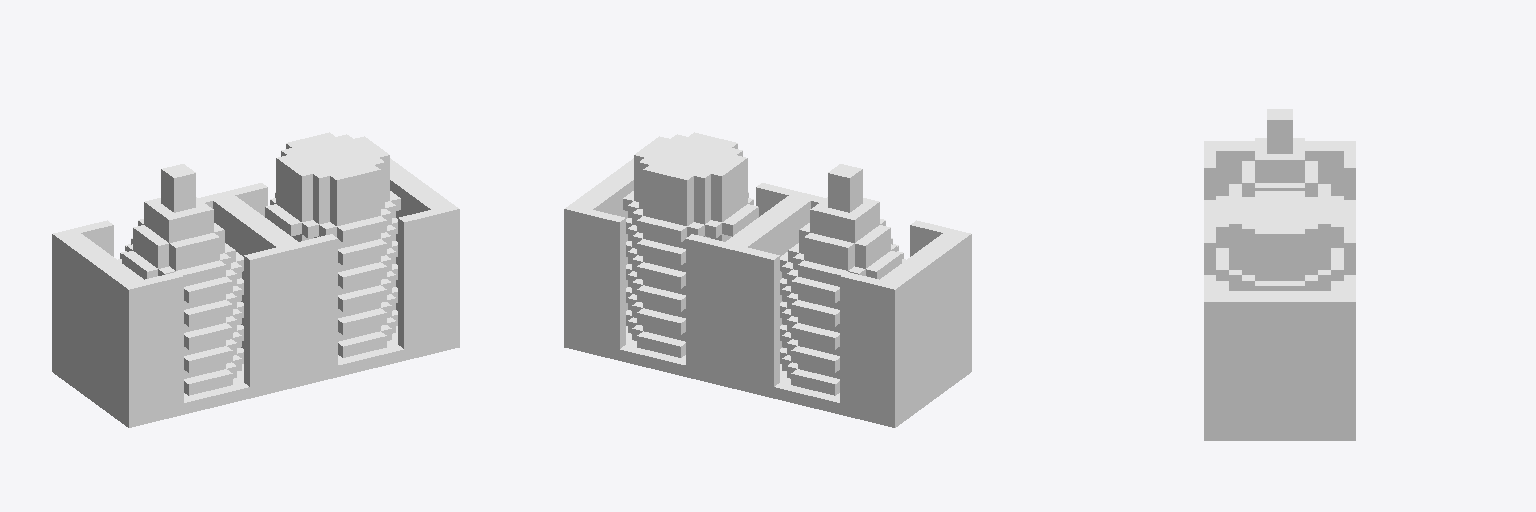
File: カップ・コーン置き場.obj
The picture shows the model from 3 angles: view 1: azimuth 30°, elevation 25°; view 2: azimuth 150°, elevation 25°; view 3: azimuth 270°, elevation 25°; orthographic projection.
Parts seen in each view (by area): view 1: object 1; view 2: object 1; view 3: object 1.
Part boxes in pixels (bbox=[...]): object 1: bbox=[52, 132, 459, 427]; object 1: bbox=[564, 132, 971, 427]; object 1: bbox=[1204, 109, 1355, 440].
Bounding box in the file's own units: 3 × 1.8 × 1.2.